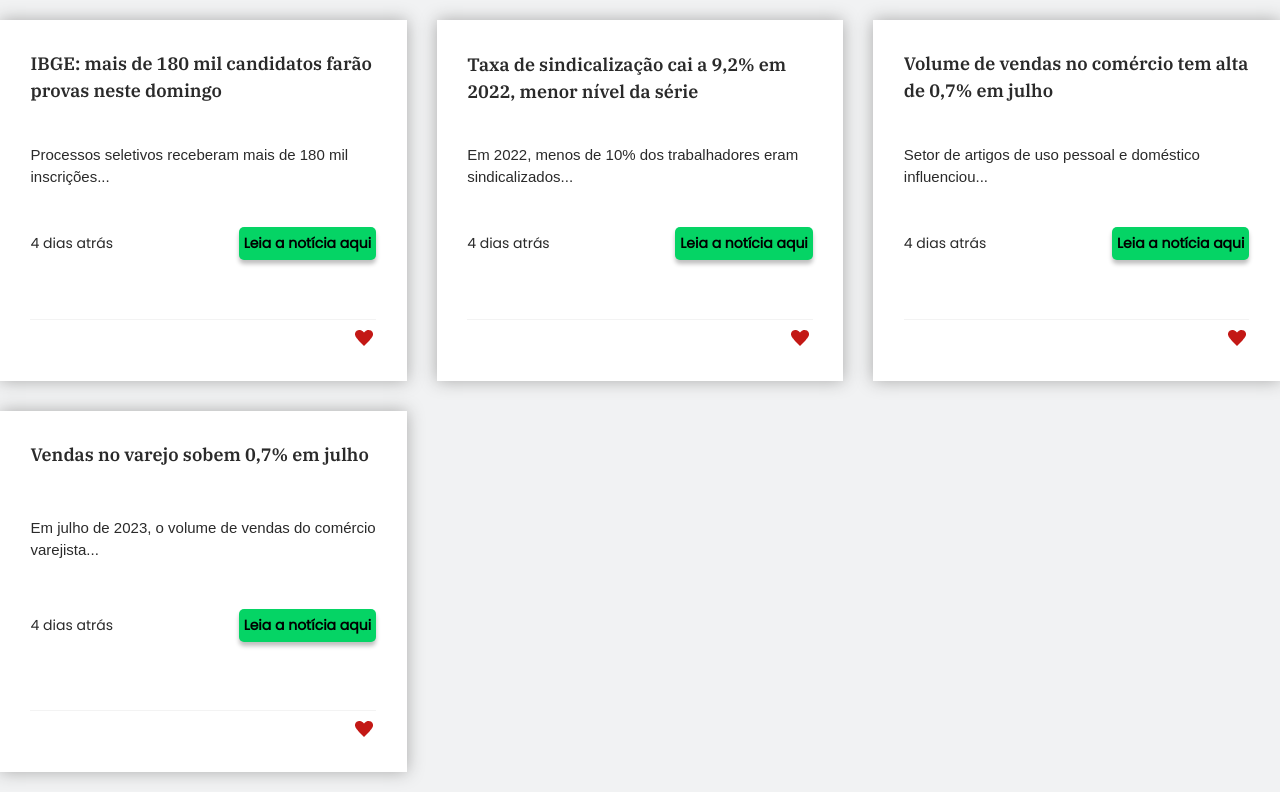
it: Testes dos favoritos › Teste se os itens favoritados são exibidos e removidos em Favorites
The width and height of the screenshot is (1280, 792).
Expected: the number of elements with test id "favoriteCard" is 4, [0,20,407,381]; [437,20,843,381]; [873,20,1279,381]; [0,411,407,772]
Click the 3rd button with test id "favButton" at (1237, 338), box [1224,326,1250,350]
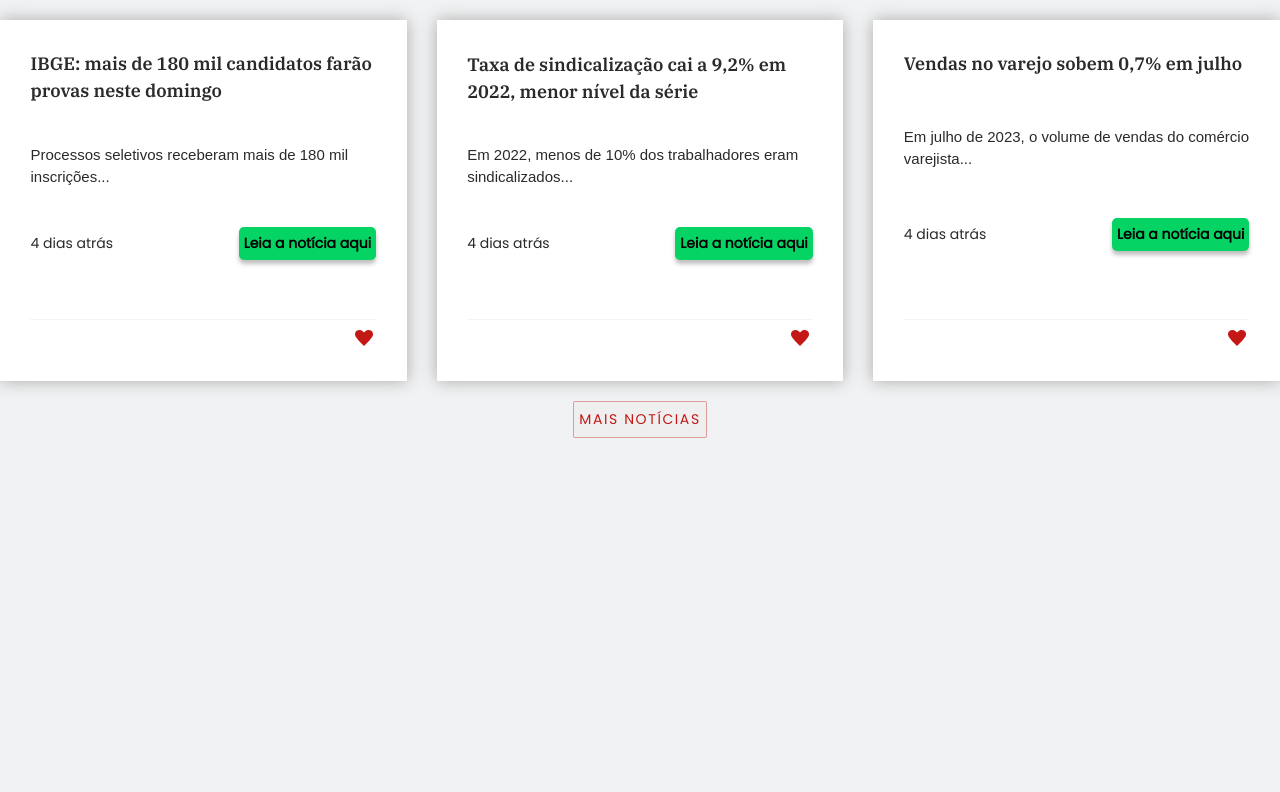
Result: the number of buttons with test id "favButton" is 3 at [351,326,376,350]; [788,326,813,350]; [1224,326,1250,350]
